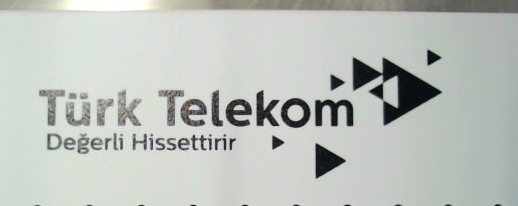AQ_TURKTelekom: (36, 37, 447, 182)
